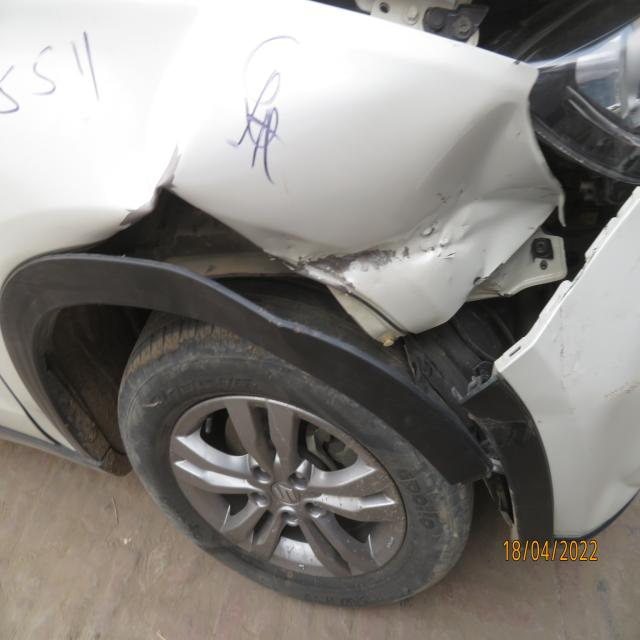damage: (39, 235, 491, 477), (263, 31, 569, 344), (38, 25, 261, 259), (460, 172, 639, 413)
